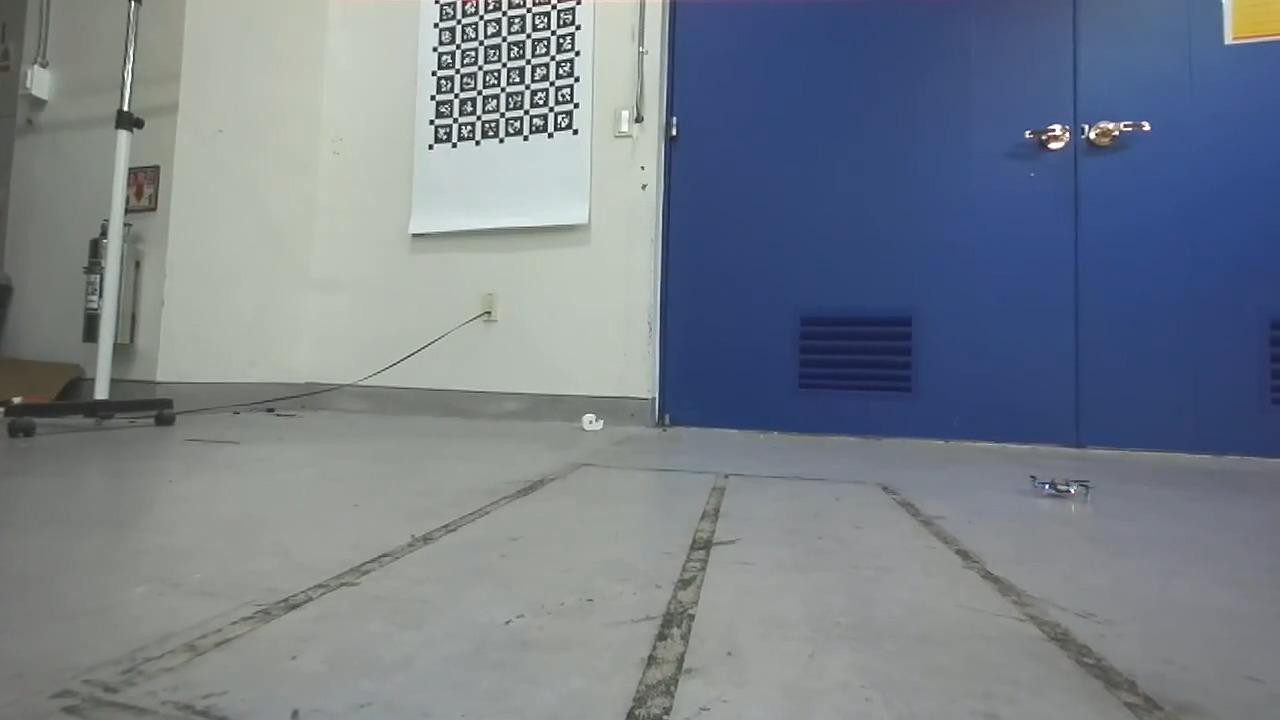crazyflie: (1026, 467, 1093, 500)
